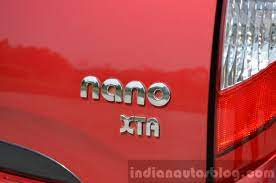Nano: (1, 3, 273, 157)
